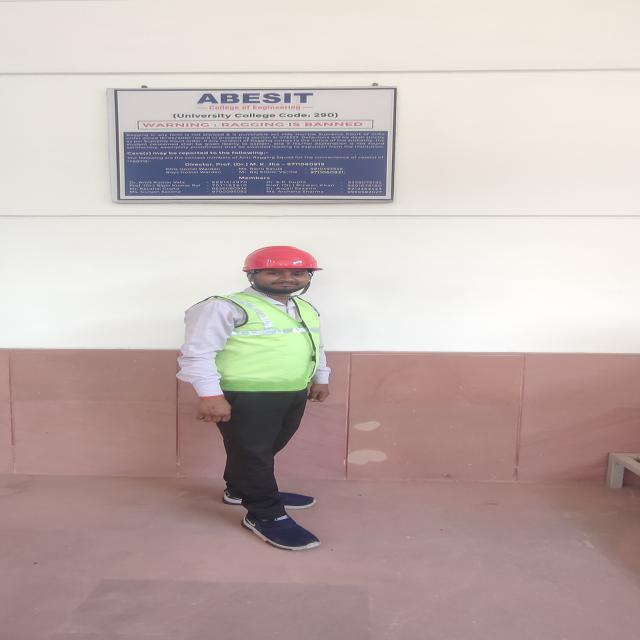safe: (182, 246, 330, 549)
